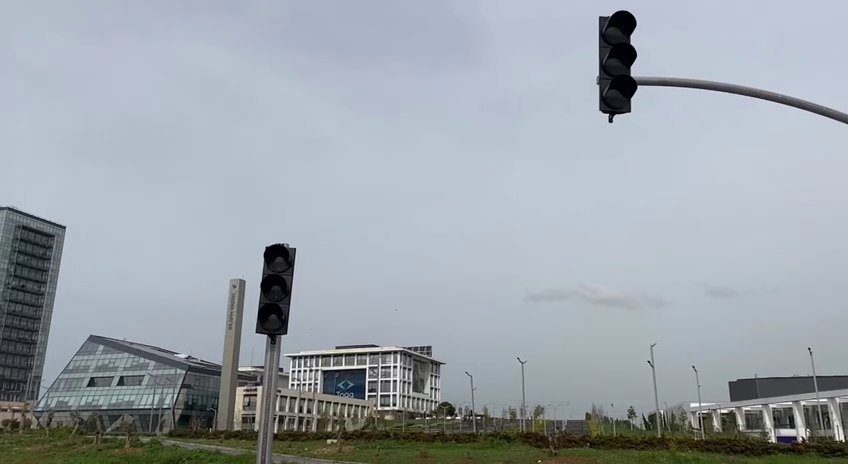trafficLight: (594, 6, 640, 128), (251, 238, 300, 342)
